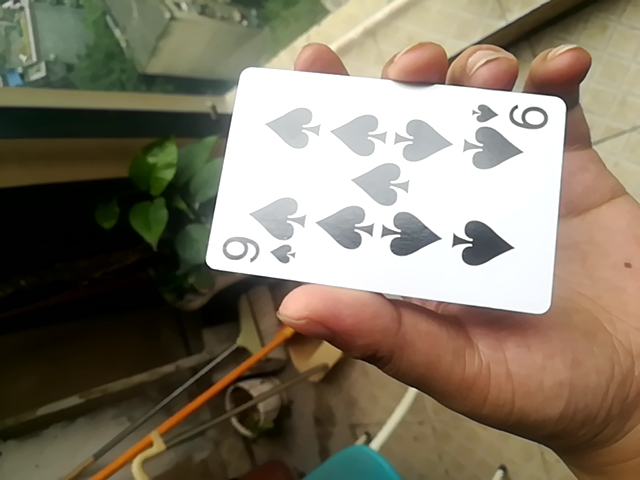ht 9: (198, 58, 574, 315)
